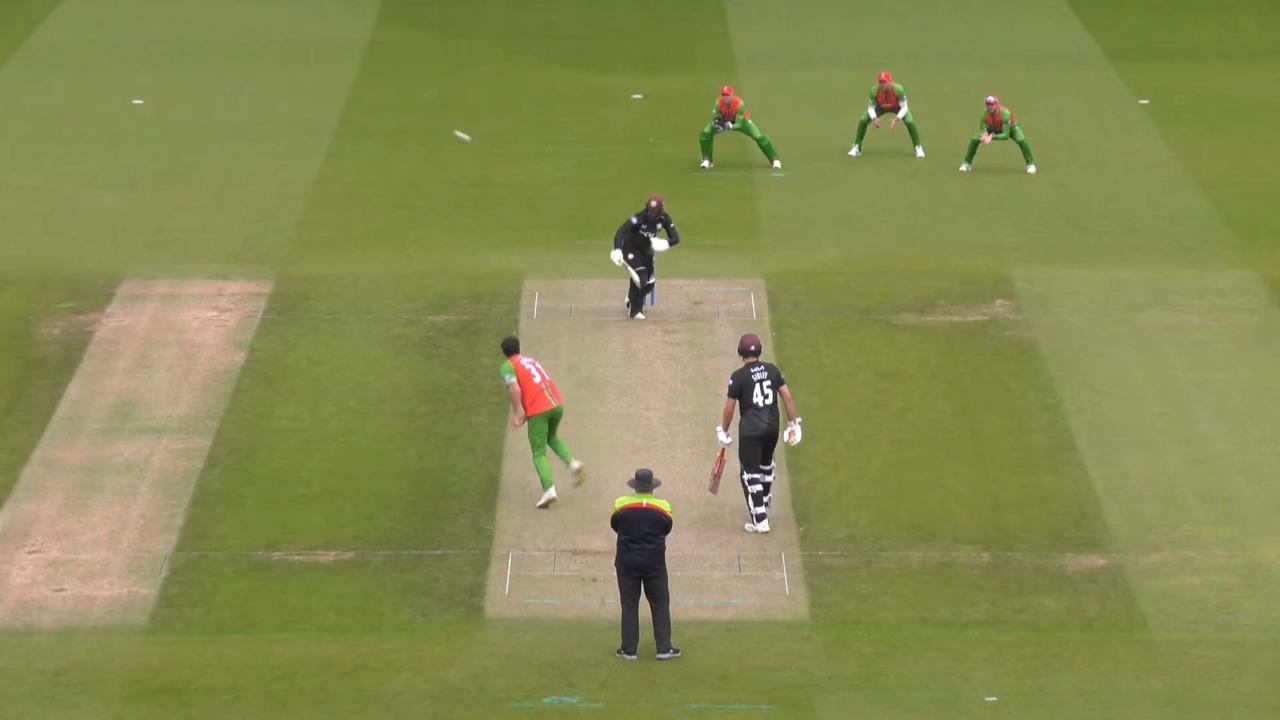sports ball: (453, 128, 472, 143)
